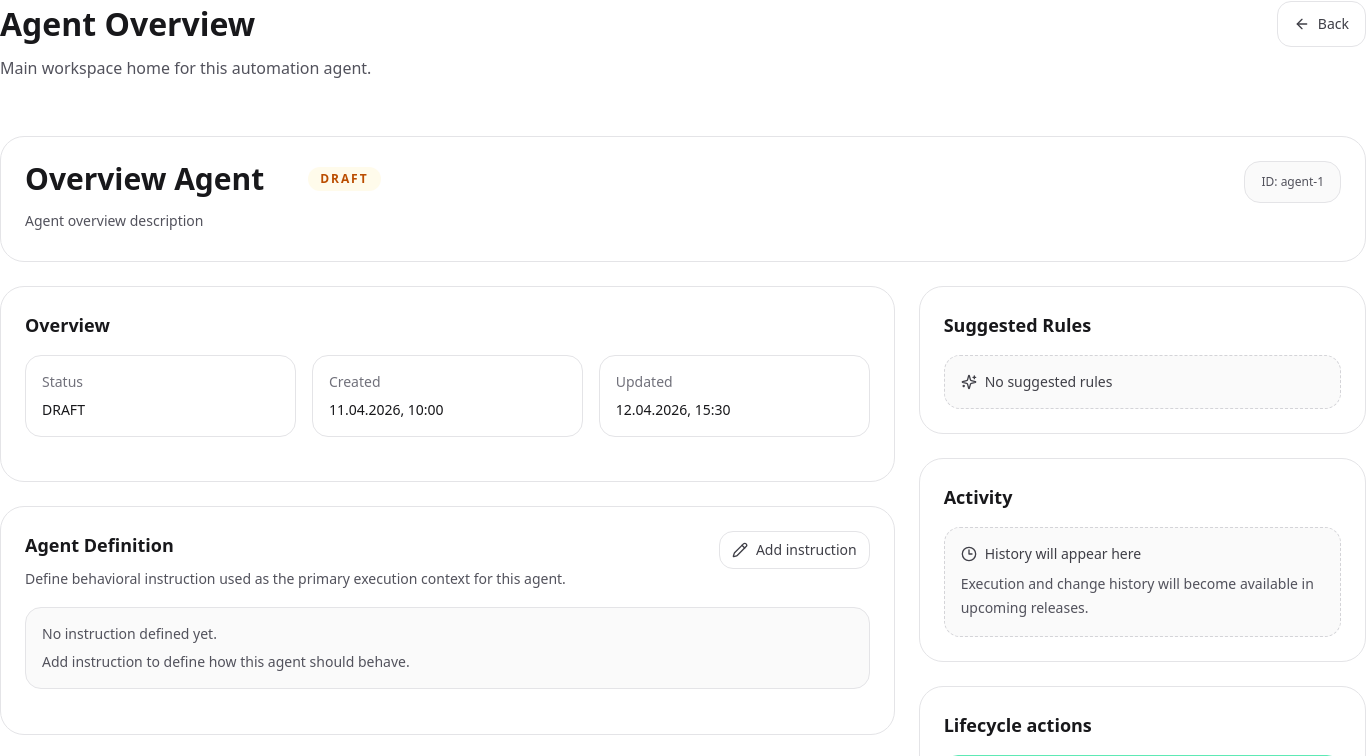
Scenario: AgentOverviewPage › allows clearing description and sends null in patch payload
The image size is (1366, 756).
expect the heading "Agent Overview" is shown: met, box [0,0,255,48]
Click the button with aria-label "Edit agent description" at [114, 221], box [25,209,204,233]
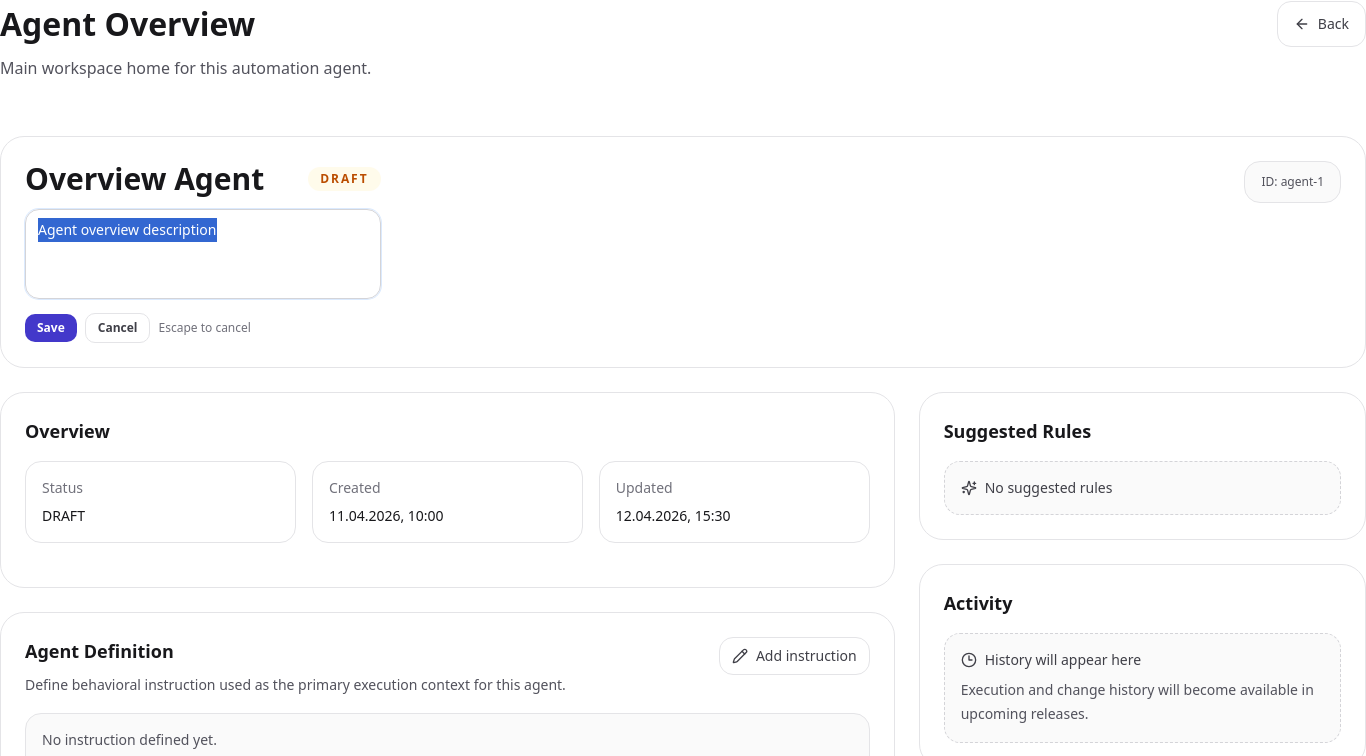
Clear the text box showing "Agent overview description" at [203, 254], box [25,209,380,299]
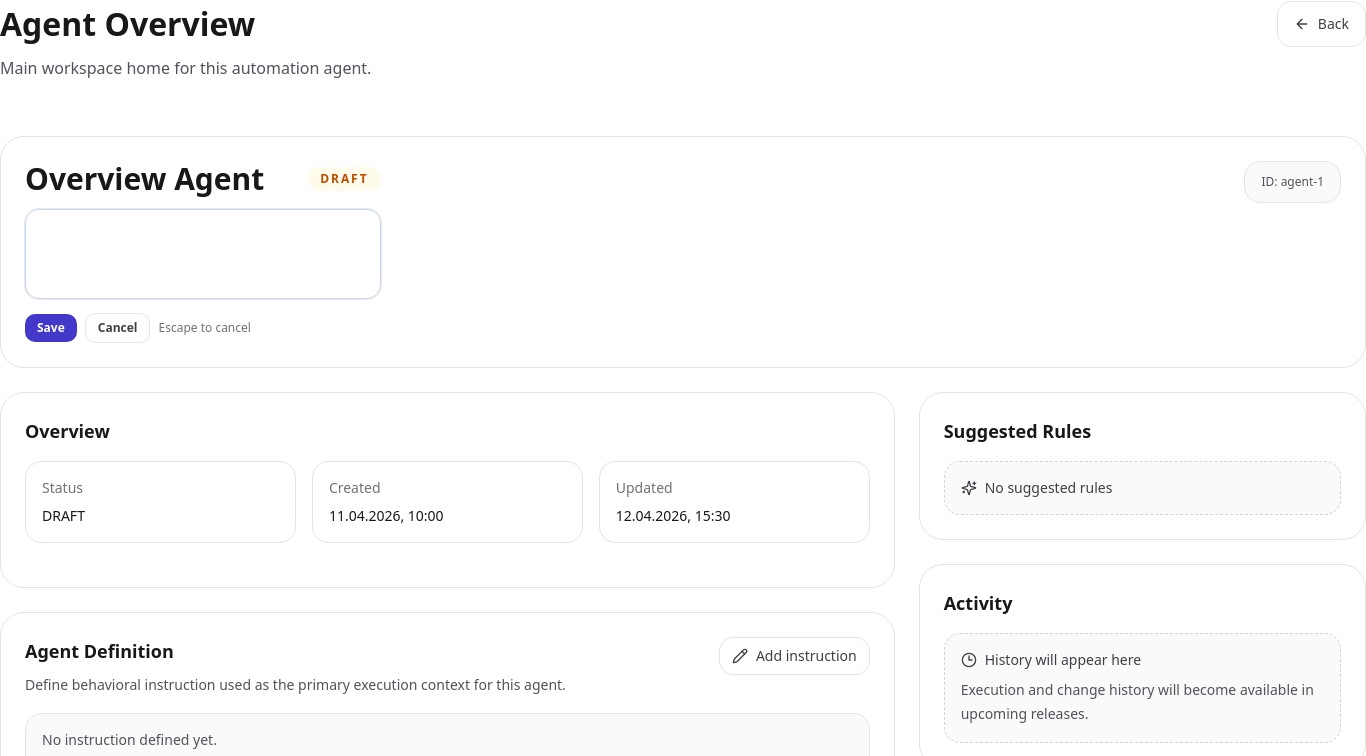
Click the button "Save" at [51, 328], box [25,314,77,342]
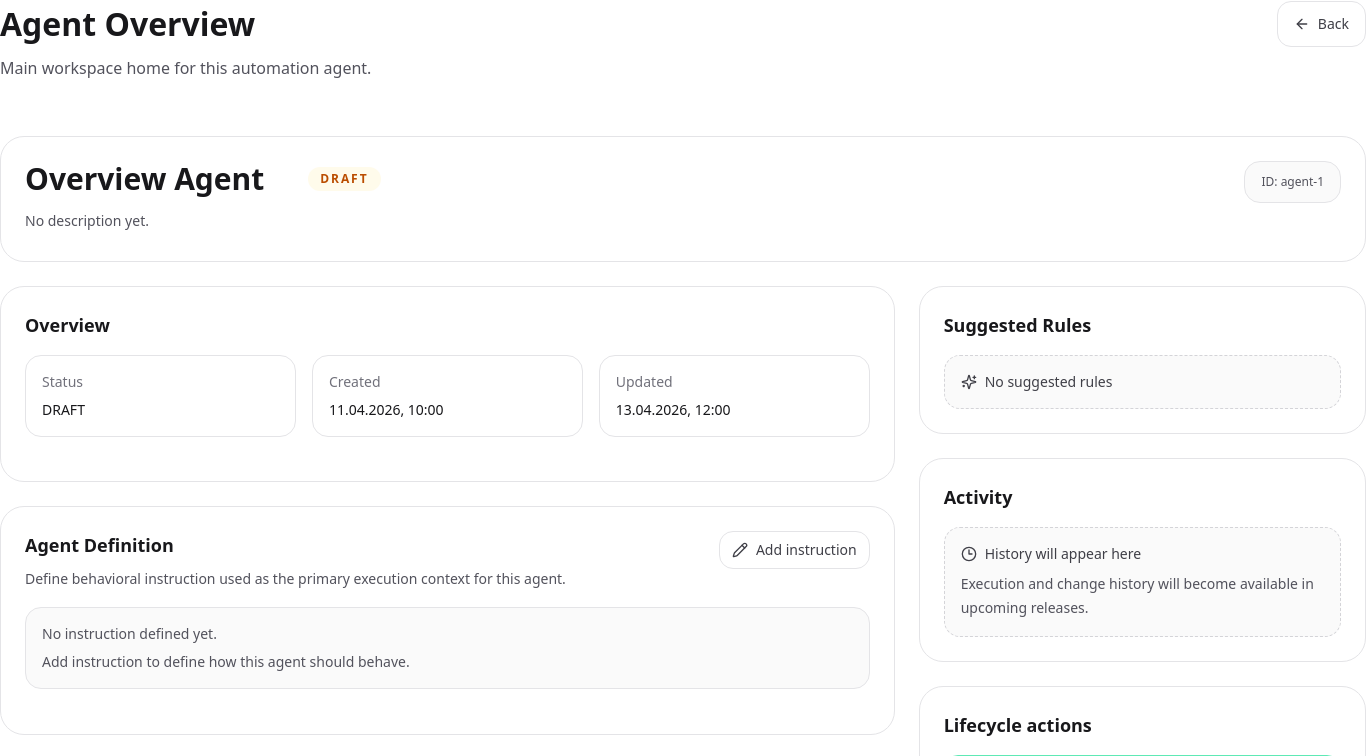
expect the button "No description yet." is shown: met, box [25,209,149,233]
